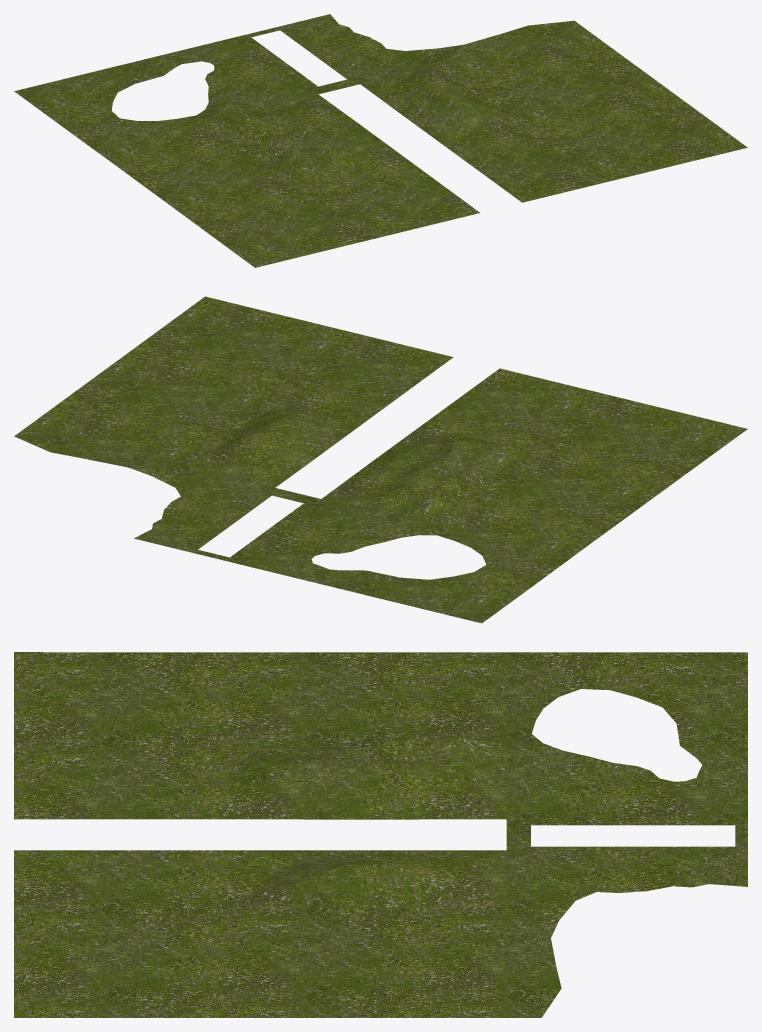
The model's file is outdoor.fbx.
The picture shows the model from 3 angles, top to bottom: view 1: azimuth 30°, elevation 25°; view 2: azimuth 150°, elevation 25°; view 3: azimuth 270°, elevation 25°; orthographic projection. The views are drawn at different scales.
Visible parts, largest first — view 1: outdoor_new; view 2: outdoor_new; view 3: outdoor_new.
Part boxes in pixels (x1=…): outdoor_new: x1=14, y1=14, x2=747, y2=267; outdoor_new: x1=14, y1=296, x2=747, y2=623; outdoor_new: x1=14, y1=652, x2=747, y2=1017.
Size of the model in its own units: 450 by 11.74 by 381.
Materials: 1 (1 with a texture image).
